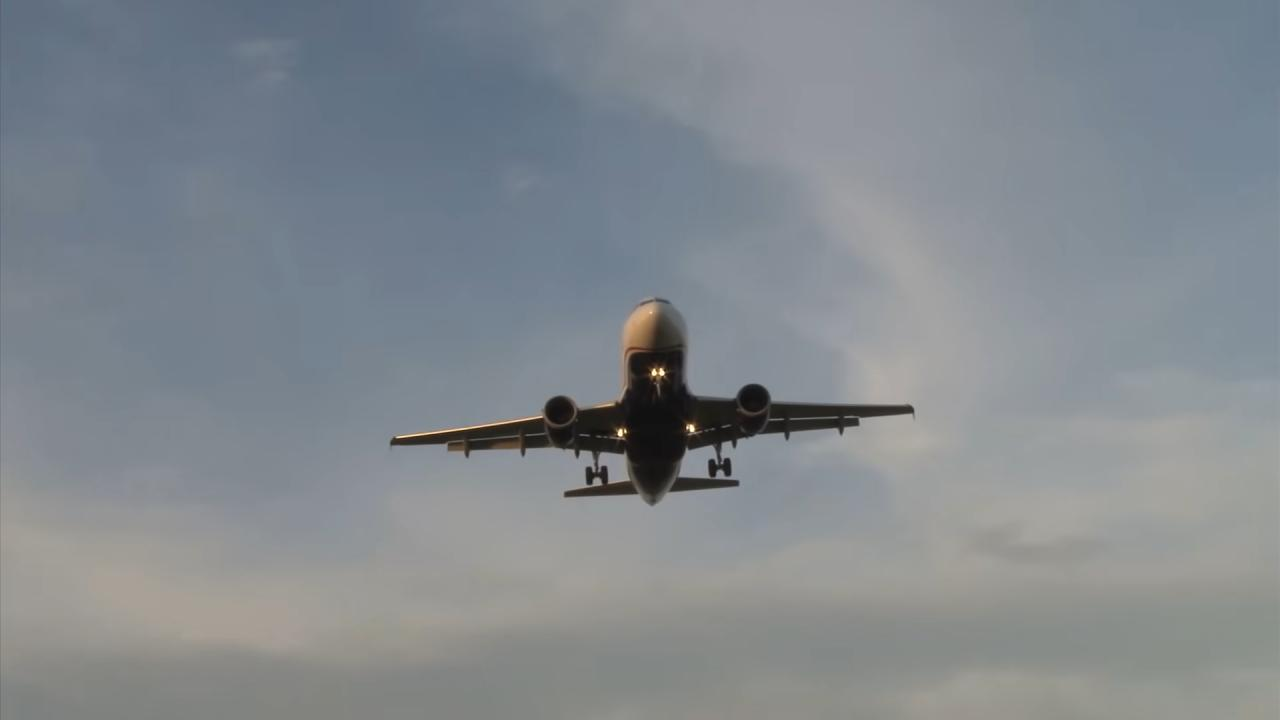Airplane: (379, 282, 931, 526)
